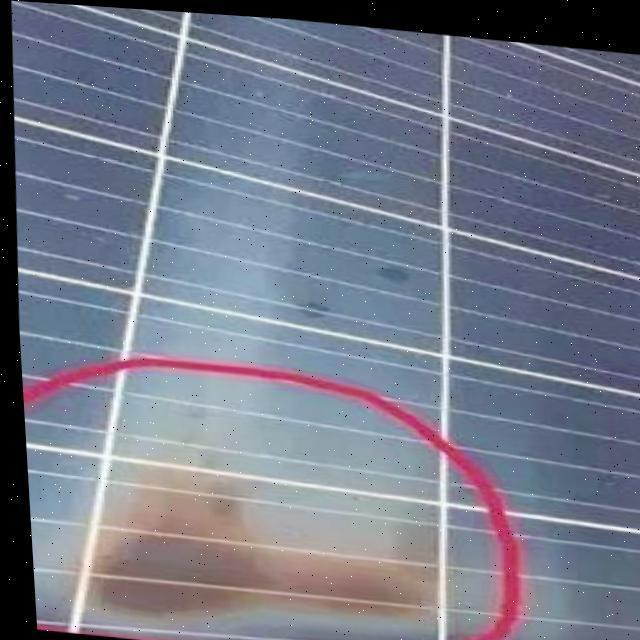Anomaly Solar Panel: (11, 1, 640, 640)
Structural Damage: (80, 441, 441, 640)
